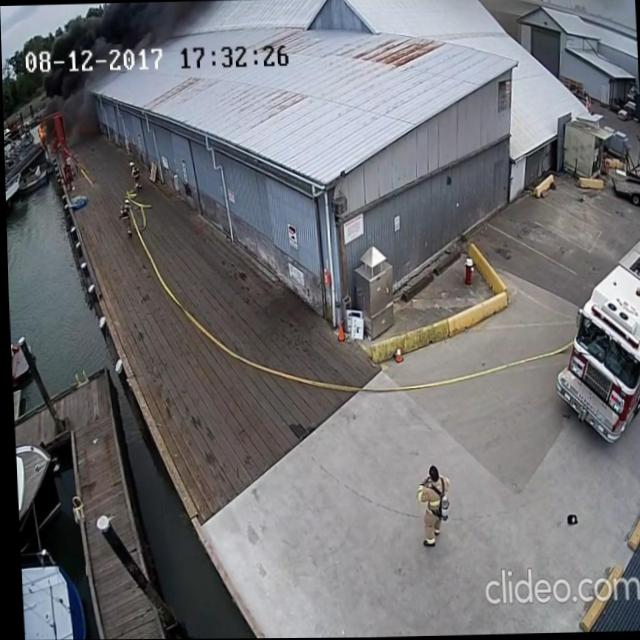fire: (32, 116, 51, 146)
